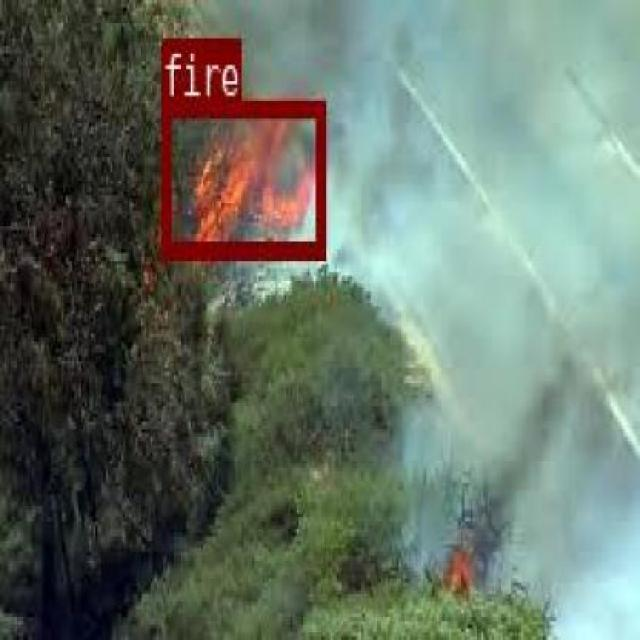Fire: (159, 98, 324, 255)
